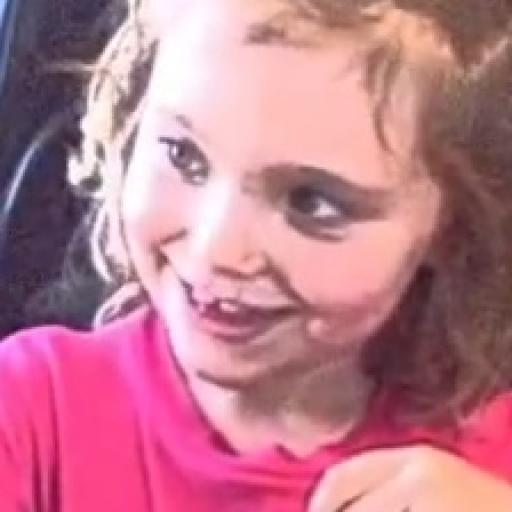Autism: (98, 21, 512, 456)
